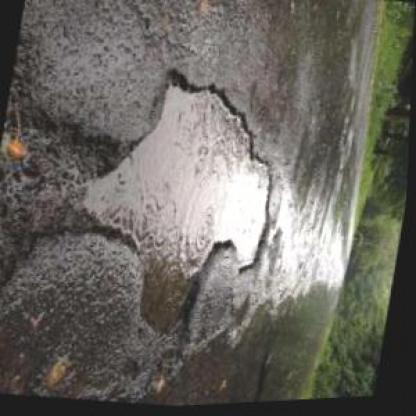pothole: (67, 53, 298, 356)
